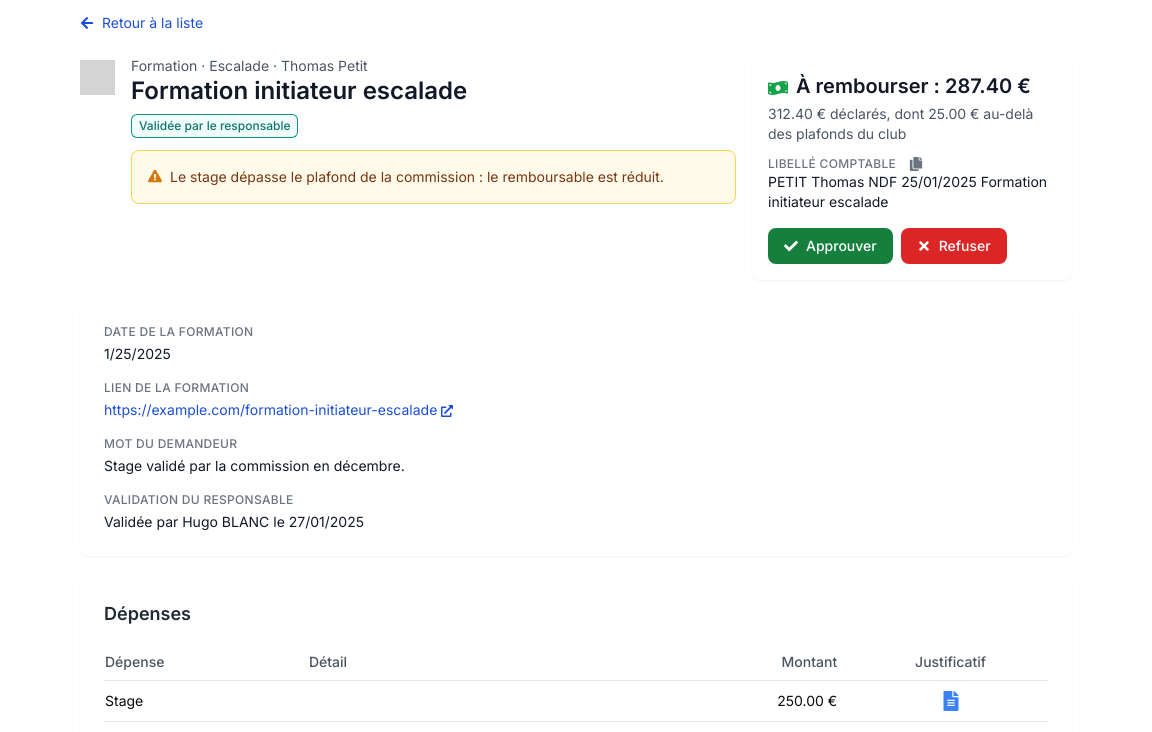
Test case: NoteHorsSortieDetail › announces the copy of the accounting label, or that it failed
The image size is (1152, 732).
Click the button named "Copier le libellé comptable": (916, 164) x1=900 y1=148 x2=932 y2=180
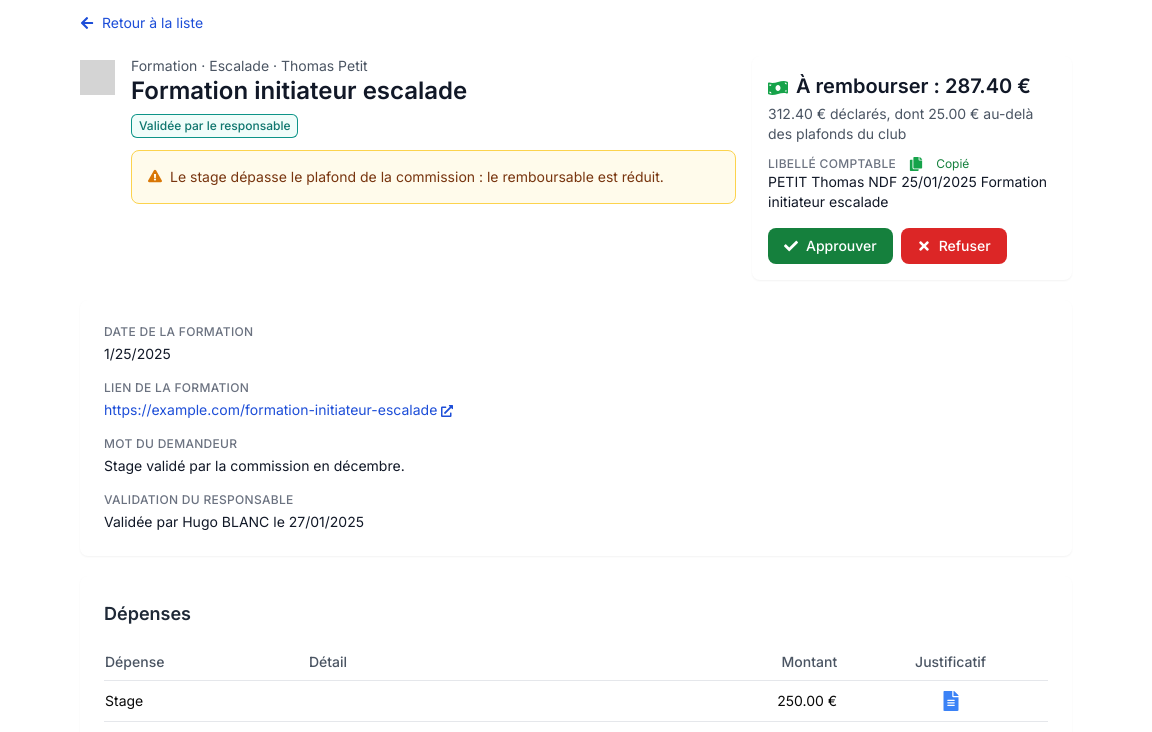
Check: the text "Copié" is shown, box x1=936 y1=156 x2=969 y2=172
Click the button named "Copier le libellé comptable": (916, 164) x1=900 y1=148 x2=932 y2=180
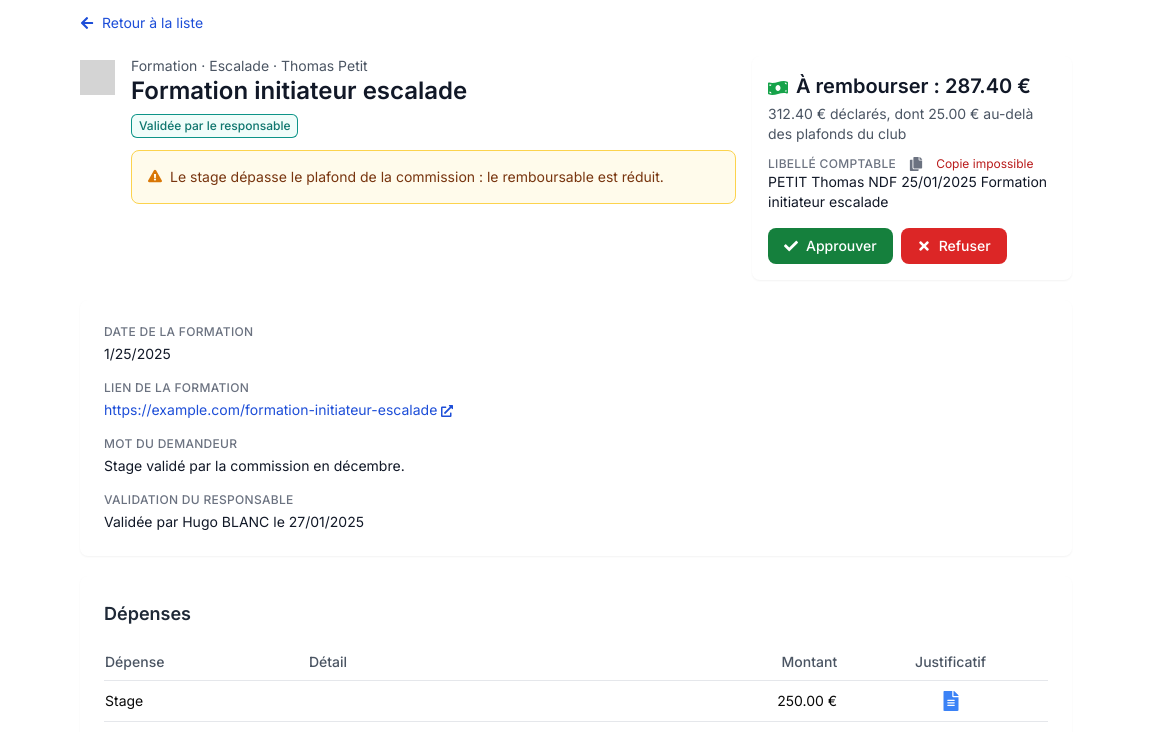
Check: the text "Copie impossible" is shown, box x1=936 y1=156 x2=1034 y2=172
